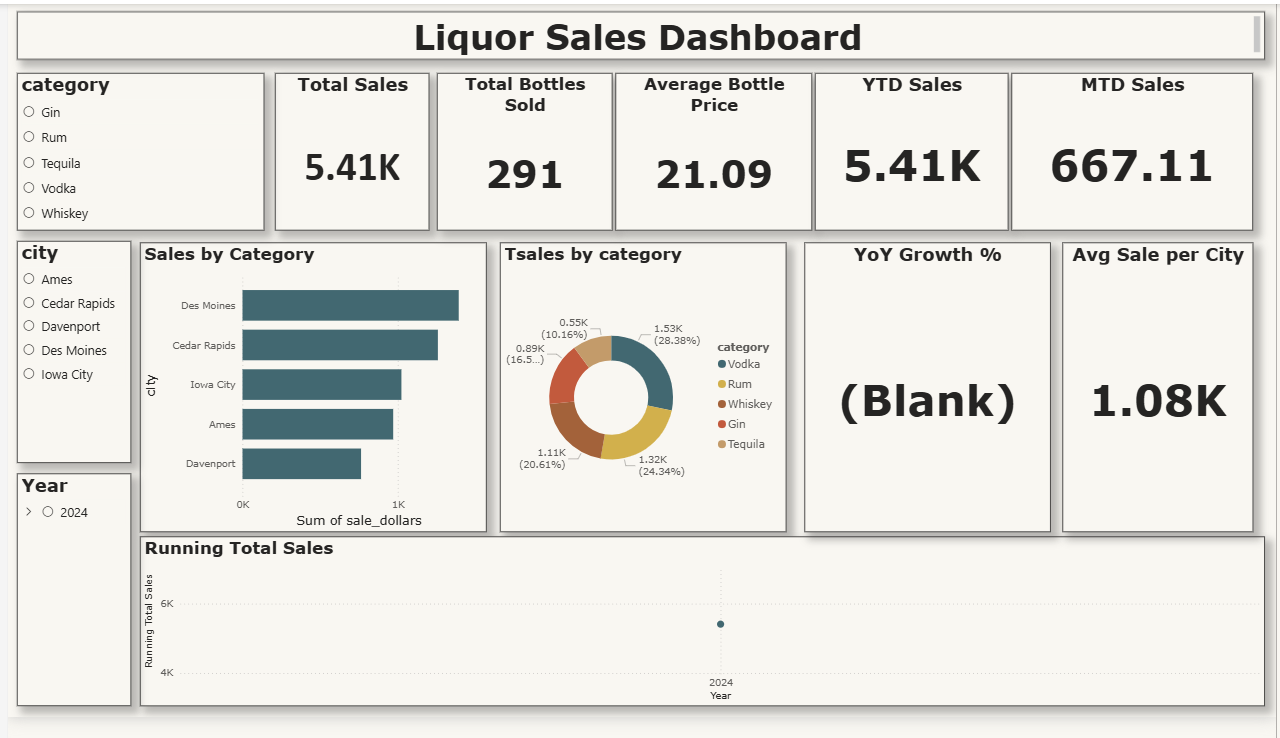

Layout of this report page (visuals, bound fields, positions):
{"tool":"powerbi","page":{"name":"Page 1","canvas":[1600,900],"ordinal":0},"visuals":[{"type":"card","title":"Total Sales","fields":{"Values":["Sum(public liquor_sales.sale_dollars)"]},"box":[336.9,87.1,195,198.7],"z":0},{"type":"clusteredBarChart","title":"Sales by Category","fields":{"Category":["public liquor_sales.city"],"Y":["Sum(public liquor_sales.sale_dollars)"]},"box":[166.6,300.9,437.2,206.3],"z":1000},{"type":"listSlicer","fields":{"Values":["public liquor_sales.category"]},"box":[10.6,87.8,311.9,198.4],"z":2000},{"type":"donutChart","title":"sales by category","fields":{"Category":["public liquor_sales.category"],"Y":["public liquor_sales.Total_sales"]},"box":[620.8,300.9,361.5,206.3],"z":3000},{"type":"lineChart","title":" Running Total Sales","fields":{"Category":["public liquor_sales.date.Variation.Date Hierarchy.Year","public liquor_sales.date.Variation.Date Hierarchy.Quarter","public liquor_sales.date.Variation.Date Hierarchy.Month","public liquor_sales.date.Variation.Date Hierarchy.Day"],"Y":["public liquor_sales.Running Total Sales"]},"box":[166.6,526.2,1419.6,234.7],"z":4000},{"type":"textbox","box":[11.4,9.5,1574.8,60.6],"z":5000},{"type":"card","title":" Total Bottles Sold","fields":{"Values":["public liquor_sales.Total Bottle Sold"]},"box":[543.2,87.1,221.5,198.7],"z":6000},{"type":"card","title":"Average Bottle Price","fields":{"Values":["public liquor_sales.Average Bottle Price"]},"box":[774.1,87.1,248,198.7],"z":7000},{"type":"listSlicer","fields":{"Values":["public liquor_sales.city"]},"box":[11.4,299.1,143.8,244.2],"z":8000},{"type":"listSlicer","fields":{"Values":["public liquor_sales.date.Variation.Date Hierarchy.Year","public liquor_sales.date.Variation.Date Hierarchy.Quarter","public liquor_sales.date.Variation.Date Hierarchy.Month","public liquor_sales.date.Variation.Date Hierarchy.Day"]},"box":[11.4,550.8,143.8,210.1],"z":9000},{"type":"card","title":"YTD Sales","fields":{"Values":["public liquor_sales.YTD Sales"]},"box":[1035.3,87.1,282,198.7],"z":10000},{"type":"card","title":"MTD Sales","fields":{"Values":["public liquor_sales.MTD Sales"]},"box":[1330.6,87.1,253.6,198.7],"z":11000},{"type":"card","title":"YoY Growth %","fields":{"Values":["public liquor_sales.YoY Growth %"]},"box":[1005.1,300.9,310.4,206.3],"z":12000},{"type":"card","title":"Avg Sale per City","fields":{"Values":["public liquor_sales.Avg Sale per City"]},"box":[1330.6,300.9,255.5,206.3],"z":13000},{"type":"textbox","title":"Insights Summary •     \tDes Moines is the top-performing city with $125K in total sales • \tVodka leads all categories with 28.38% share • \tAverage bottle price is $43.99, indicating a premium product ","box":[11.4,774.1,1574.8,109.8],"z":13001}]}

Visuals, with their boxes in screenshot pixels (x1, y1, x2, y2), scaled from the page's 1600x900 canvas onto the 1280x738 screenshot:
"Total Sales" card: x1=270, y1=71, x2=426, y2=234
"Sales by Category" clusteredBarChart: x1=133, y1=247, x2=483, y2=416
listSlicer - public liquor_sales.category: x1=8, y1=72, x2=258, y2=235
"sales by category" donutChart: x1=497, y1=247, x2=786, y2=416
" Running Total Sales" lineChart: x1=133, y1=431, x2=1269, y2=624
textbox: x1=9, y1=8, x2=1269, y2=57
" Total Bottles Sold" card: x1=435, y1=71, x2=612, y2=234
"Average Bottle Price" card: x1=619, y1=71, x2=818, y2=234
listSlicer - public liquor_sales.city: x1=9, y1=245, x2=124, y2=446
listSlicer - public liquor_sales.date.Variation.Date Hierarchy.Year x public liquor_sales.date.Variation.Date Hierarchy.Quarter: x1=9, y1=452, x2=124, y2=624
"YTD Sales" card: x1=828, y1=71, x2=1054, y2=234
"MTD Sales" card: x1=1064, y1=71, x2=1267, y2=234
"YoY Growth %" card: x1=804, y1=247, x2=1052, y2=416
"Avg Sale per City" card: x1=1064, y1=247, x2=1269, y2=416
"Insights Summary •     	Des Moines is the top-performing city with $125K in total sales • 	Vodka leads all categories with 28.38% share • 	Average bottle price is $43.99, indicating a premium product " textbox: x1=9, y1=635, x2=1269, y2=725
